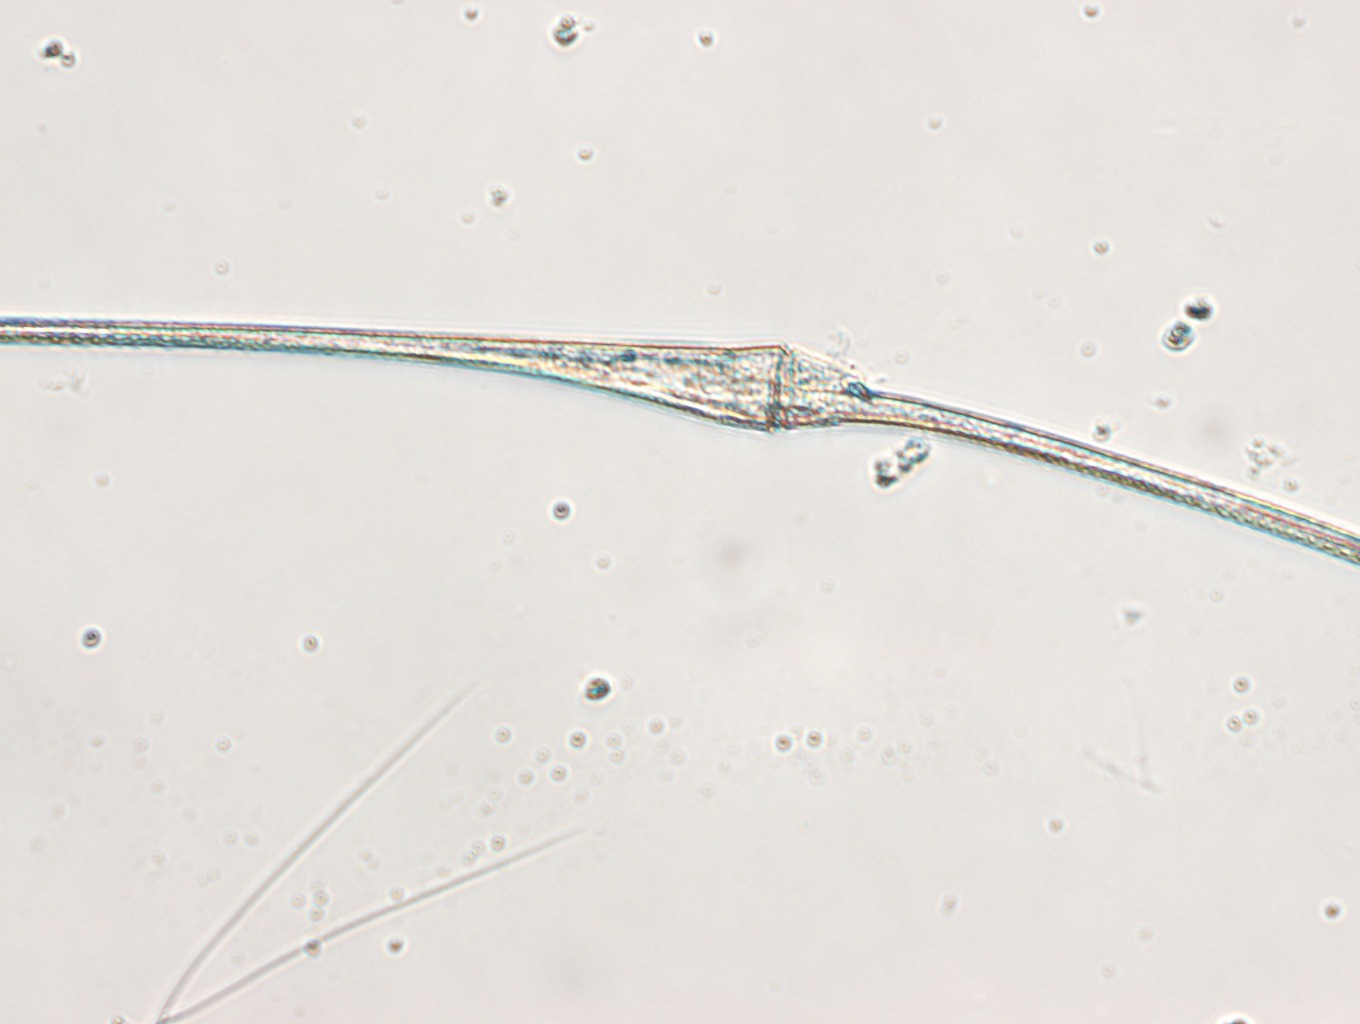ceratium fusus: (1, 314, 1360, 577)
